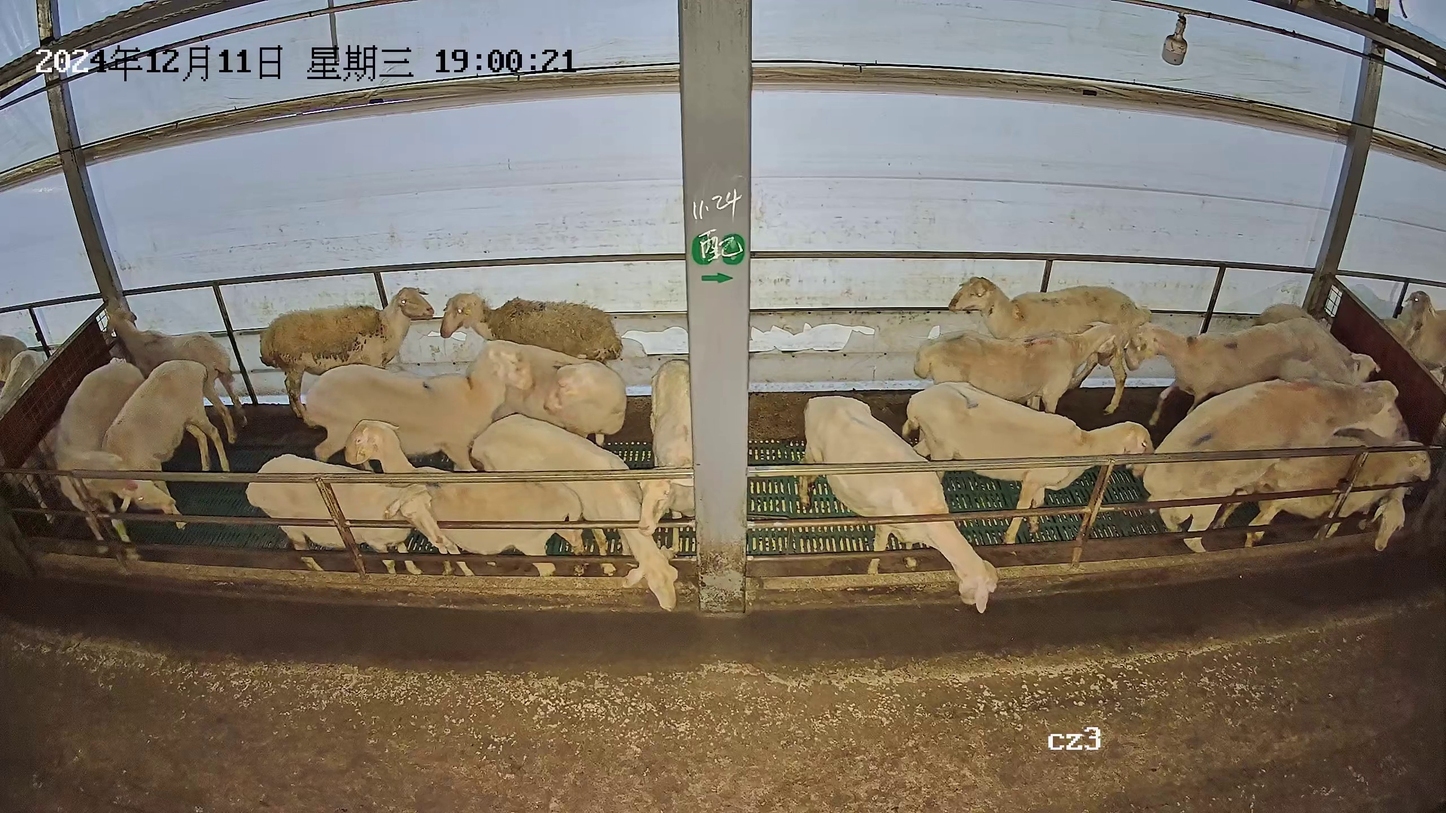Smounting: (1142, 374, 1437, 553)
mounted: (1235, 437, 1432, 547)
